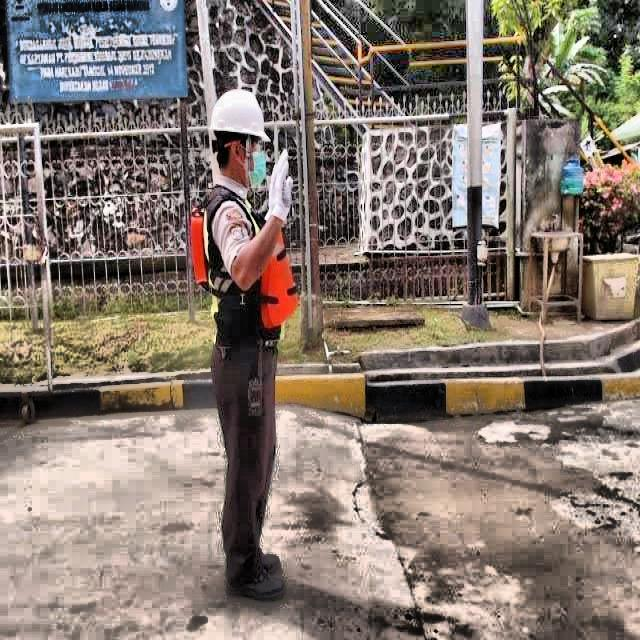safety_jacket: (189, 186, 300, 345)
